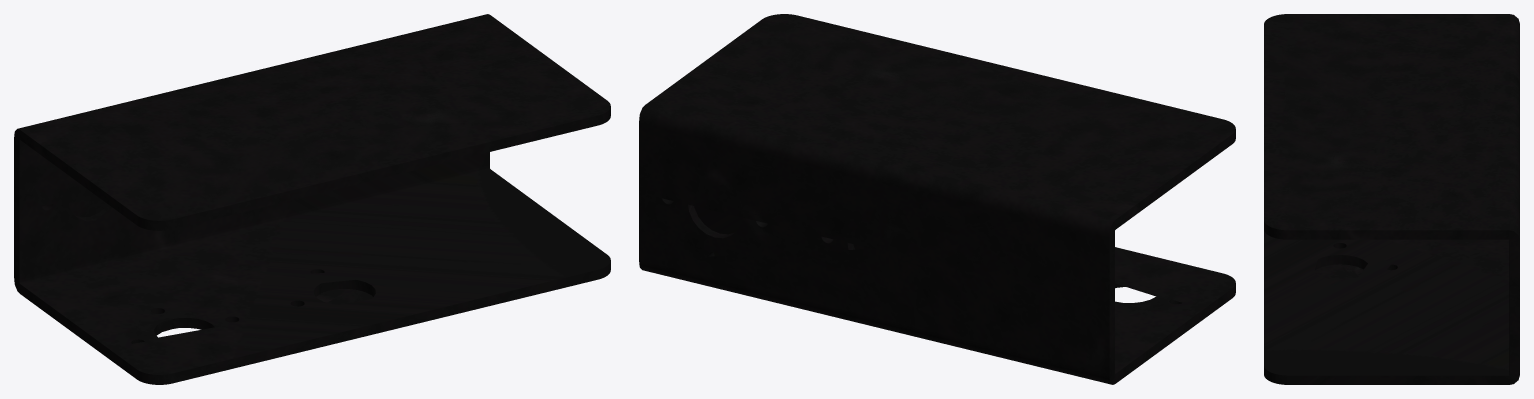
3 renders of one model, left to right at view 1: azimuth 30°, elevation 25°; view 2: azimuth 150°, elevation 25°; view 3: azimuth 270°, elevation 25°, orthographic. The views are drawn at different scales.
Parts seen in each view (by area): view 1: pCube54; view 2: pCube54; view 3: pCube54.
Part boxes in pixels (<box>): pCube54: <box>14,14,610,384</box>; pCube54: <box>639,14,1235,384</box>; pCube54: <box>1264,14,1519,384</box>.
Bounding box in the file's own units: 9 × 4.5 × 3.
1 material, 1 textured.
